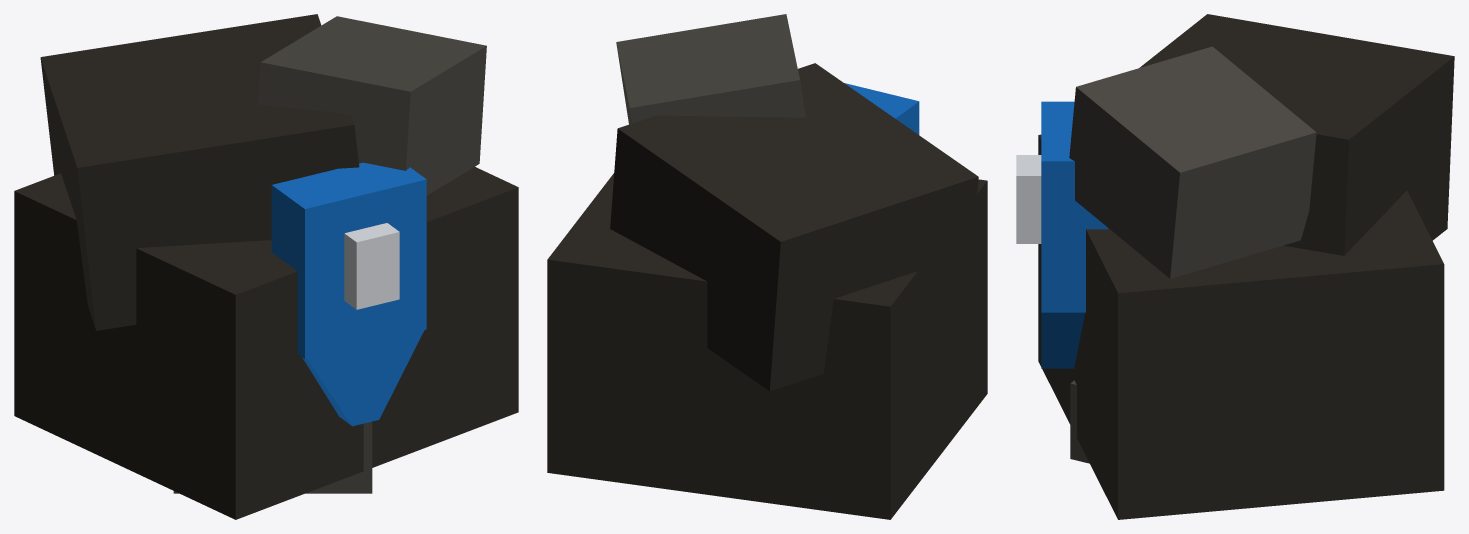
Rendered from PiedraGuardia_low.fbx.
3 views of the same model, side by side, from view 1: azimuth 30°, elevation 25°; view 2: azimuth 150°, elevation 25°; view 3: azimuth 270°, elevation 25° (orthographic). The views are drawn at different scales.
Visible parts, largest first — view 1: PiedraGuardia_low; view 2: PiedraGuardia_low; view 3: PiedraGuardia_low.
Boxes of the visible parts, x1,y1,x2,y2 form: PiedraGuardia_low: (14,14,518,519); PiedraGuardia_low: (547,14,987,519); PiedraGuardia_low: (1016,14,1454,519).
Bounding box in the file's own units: 55.39 × 51.96 × 52.6.
